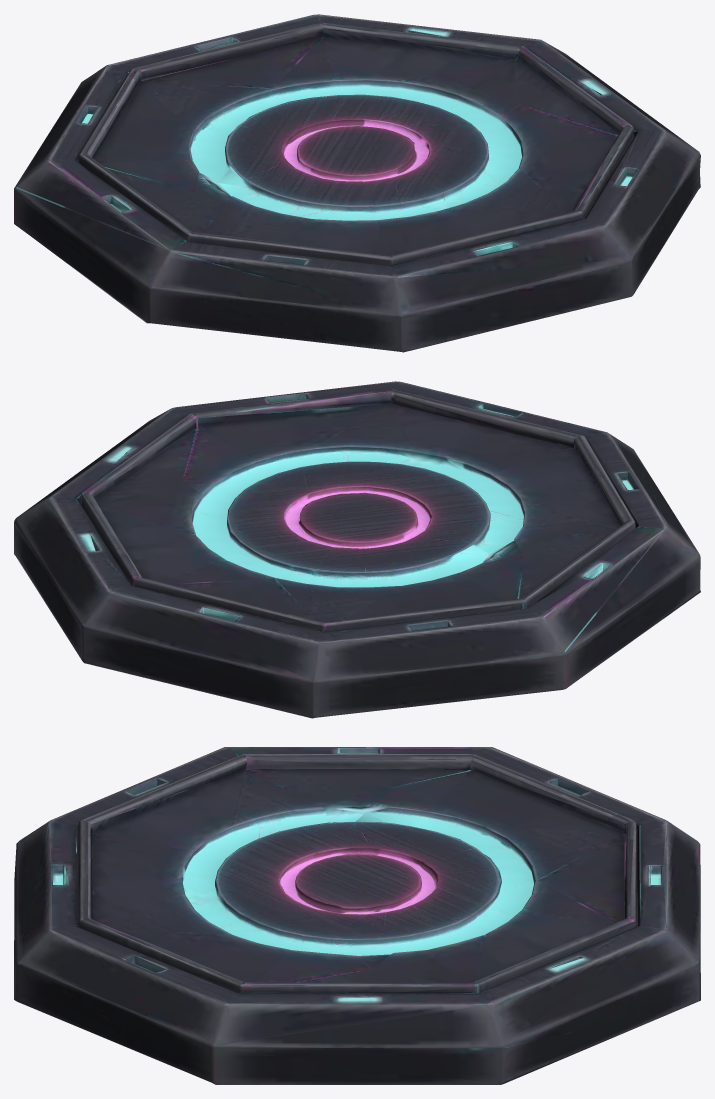
The model's file is spawn-pad.glb.
3 renders of one model, top to bottom at view 1: azimuth 30°, elevation 25°; view 2: azimuth 150°, elevation 25°; view 3: azimuth 270°, elevation 25°, orthographic. The views are drawn at different scales.
Size of the model in its own units: 0.9389 by 0.1089 by 0.9448.
1 material, 1 textured.
